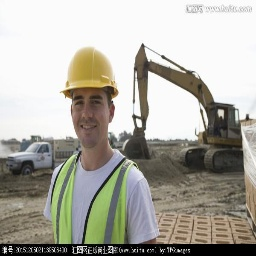helmet: (61, 46, 121, 105)
person: (45, 43, 157, 243)
vest: (45, 146, 141, 244)
